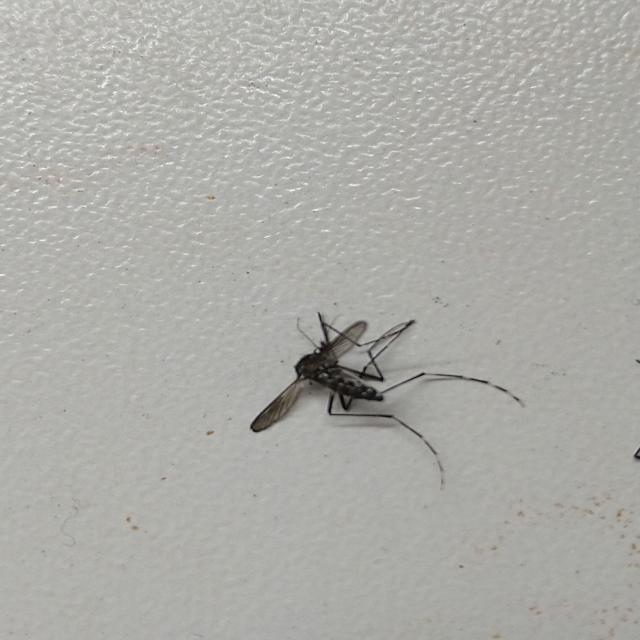albopictus: (247, 296, 522, 492)
